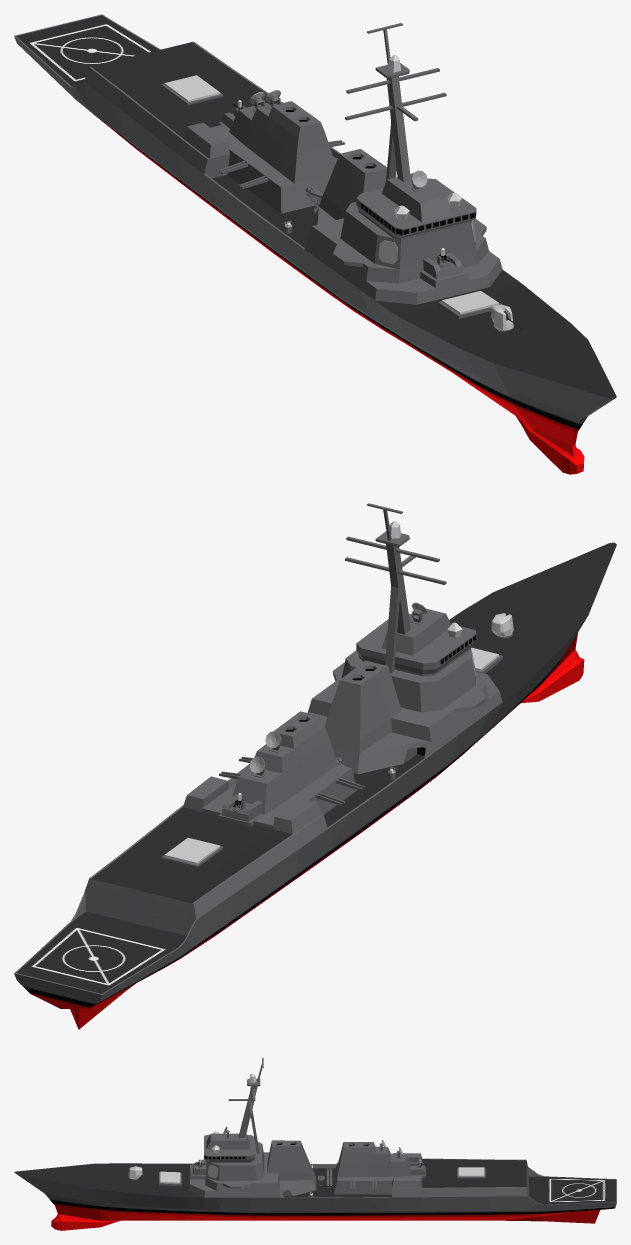
3 renders of one model, top to bottom at view 1: azimuth 30°, elevation 25°; view 2: azimuth 150°, elevation 25°; view 3: azimuth 270°, elevation 25°, orthographic. The views are drawn at different scales.
Visible parts, largest first — view 1: Cube.024; view 2: Cube.024, Cube.030, Cube.031; view 3: Cube.024.
Part boxes in pixels (left/top/right/bottom): Cube.024: left=14, top=14, right=616, bottom=474; Cube.024: left=14, top=503, right=616, bottom=1029; Cube.030: left=91, top=883, right=124, bottom=920; Cube.031: left=155, top=899, right=188, bottom=935; Cube.024: left=14, top=1058, right=616, bottom=1230.
Size of the model in its own units: 2272 by 4685 by 15364.
